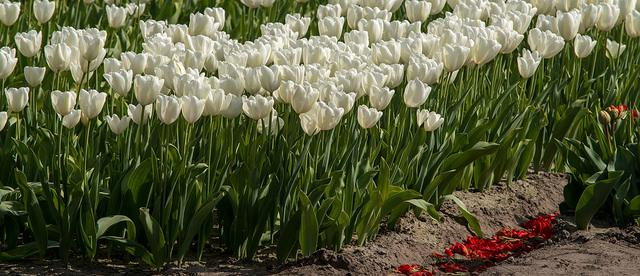tulip: (134, 73, 164, 102), (204, 83, 230, 115), (242, 94, 276, 118), (516, 46, 542, 77), (80, 28, 105, 60), (442, 42, 469, 70), (404, 79, 431, 106), (156, 95, 183, 121), (292, 83, 318, 110), (103, 70, 133, 93), (181, 95, 208, 120), (556, 10, 580, 38), (46, 44, 71, 70), (81, 90, 105, 117), (404, 0, 432, 23), (16, 31, 42, 55), (259, 66, 283, 91), (4, 88, 30, 111), (0, 47, 19, 78), (369, 84, 394, 107), (191, 12, 214, 36), (318, 16, 344, 37), (357, 104, 382, 125), (0, 0, 21, 25), (122, 49, 145, 71), (52, 91, 76, 112), (32, 0, 55, 20), (106, 5, 124, 24)
